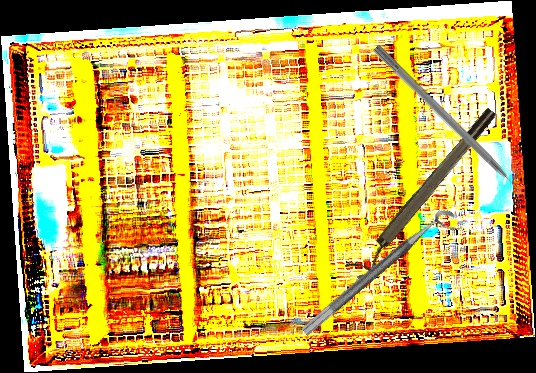Fixation Ring: (344, 104, 507, 286), (300, 205, 464, 349)
Pusher: (371, 44, 531, 204)
